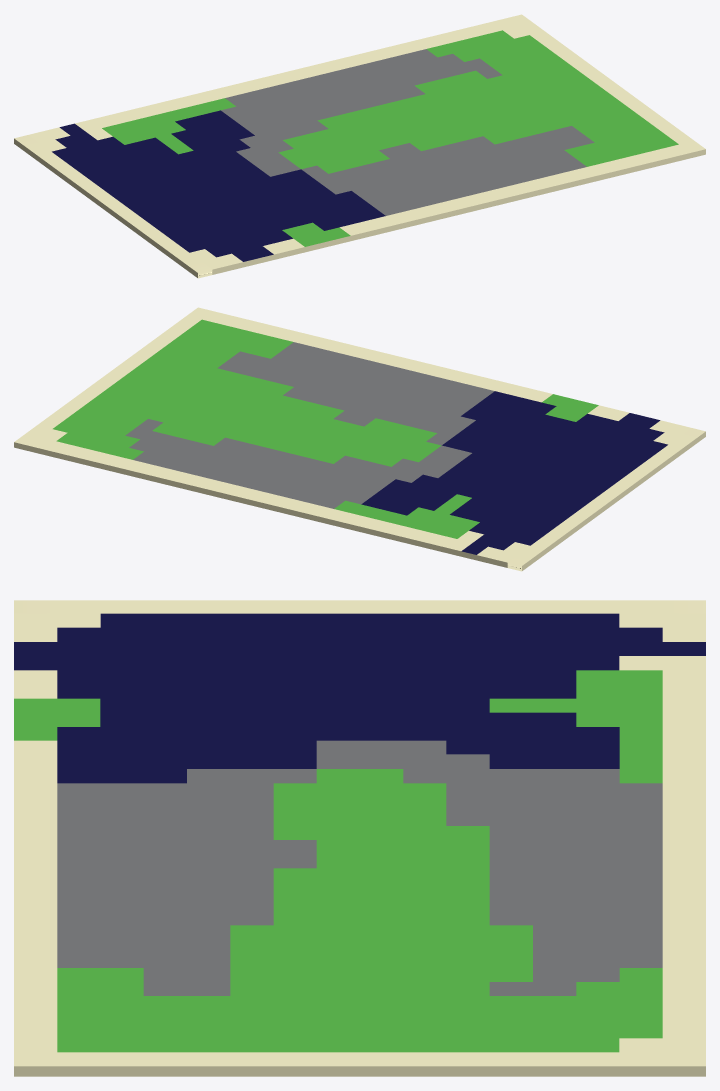
The model's file is drawing1.fbx.
3 renders of one model, top to bottom at view 1: azimuth 30°, elevation 25°; view 2: azimuth 150°, elevation 25°; view 3: azimuth 270°, elevation 25°, orthographic. The views are drawn at different scales.
Parts seen in each view (by area): view 1: PAPER; view 2: PAPER; view 3: PAPER.
Part boxes in pixels (x1,y1,x2,y2): PAPER: (14, 14, 705, 278); PAPER: (14, 307, 705, 571); PAPER: (14, 600, 705, 1076).
Size of the model in its own units: 89.64 by 0.9159 by 56.27.
